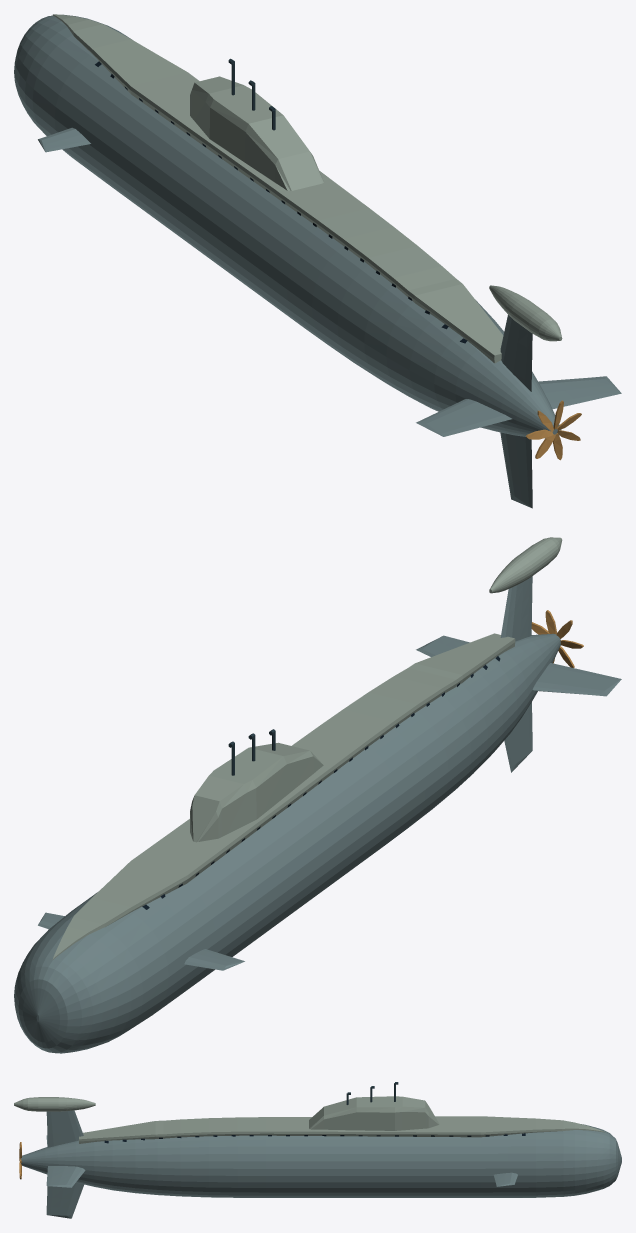
File: archive-project-971.glb
3 views of the same model, one above another, from view 1: azimuth 30°, elevation 25°; view 2: azimuth 150°, elevation 25°; view 3: azimuth 270°, elevation 25° (orthographic). The views are drawn at different scales.
Visible parts, largest first — view 1: archive-project-971-pressure_hull.016-geometry, archive-project-971-cruise_deck.012-geometry, archive-project-971-submarine_sail.016-geometry, archive-project-971-stern_rudder_2.010-geometry, archive-project-971-stern_rudder_1.010-geometry, archive-project-971-tailPod-geometry, archive-project-971-stern_rudder_0.010-geometry, archive-project-971-stern_rudder_3.010-geometry, archive-project-971-screw_0.016-geometry, archive-project-971-diving_plane_-1.016-geometry; view 2: archive-project-971-pressure_hull.016-geometry, archive-project-971-cruise_deck.012-geometry, archive-project-971-submarine_sail.016-geometry, archive-project-971-stern_rudder_2.010-geometry, archive-project-971-tailPod-geometry, archive-project-971-stern_rudder_3.010-geometry, archive-project-971-stern_rudder_1.010-geometry, archive-project-971-screw_0.016-geometry, archive-project-971-diving_plane_-1.016-geometry; view 3: archive-project-971-pressure_hull.016-geometry, archive-project-971-cruise_deck.012-geometry, archive-project-971-submarine_sail.016-geometry, archive-project-971-stern_rudder_3.010-geometry, archive-project-971-stern_rudder_1.010-geometry, archive-project-971-tailPod-geometry, archive-project-971-stern_rudder_0.010-geometry, archive-project-971-diving_plane_1.016-geometry, archive-project-971-flood_openings.012-geometry.
Part boxes in pixels (x1,y1,x2,y2): archive-project-971-pressure_hull.016-geometry: (14,14,561,436); archive-project-971-cruise_deck.012-geometry: (52,14,503,363); archive-project-971-submarine_sail.016-geometry: (190,58,323,190); archive-project-971-stern_rudder_2.010-geometry: (416,399,511,436); archive-project-971-stern_rudder_1.010-geometry: (500,432,532,508); archive-project-971-tailPod-geometry: (489,285,562,341); archive-project-971-stern_rudder_0.010-geometry: (538,376,621,408); archive-project-971-stern_rudder_3.010-geometry: (500,315,532,391); archive-project-971-screw_0.016-geometry: (526,400,581,460); archive-project-971-diving_plane_-1.016-geometry: (38,127,90,152); archive-project-971-pressure_hull.016-geometry: (14,633,560,1053); archive-project-971-cruise_deck.012-geometry: (52,633,515,959); archive-project-971-submarine_sail.016-geometry: (190,729,323,842); archive-project-971-stern_rudder_2.010-geometry: (532,663,621,696); archive-project-971-tailPod-geometry: (489,537,562,593); archive-project-971-stern_rudder_3.010-geometry: (500,576,532,641); archive-project-971-stern_rudder_1.010-geometry: (504,702,532,772); archive-project-971-screw_0.016-geometry: (531,610,583,667); archive-project-971-diving_plane_-1.016-geometry: (184,949,244,970); archive-project-971-pressure_hull.016-geometry: (21,1124,621,1197); archive-project-971-cruise_deck.012-geometry: (79,1116,604,1143); archive-project-971-submarine_sail.016-geometry: (309,1082,439,1130); archive-project-971-stern_rudder_3.010-geometry: (46,1110,83,1147); archive-project-971-stern_rudder_1.010-geometry: (46,1182,83,1218); archive-project-971-tailPod-geometry: (14,1097,95,1111); archive-project-971-stern_rudder_0.010-geometry: (46,1166,85,1187); archive-project-971-diving_plane_1.016-geometry: (494,1172,517,1186); archive-project-971-flood_openings.012-geometry: (104,1133,525,1143).
Bounding box in the file's own units: 2.19 × 2.46 × 9.91.
